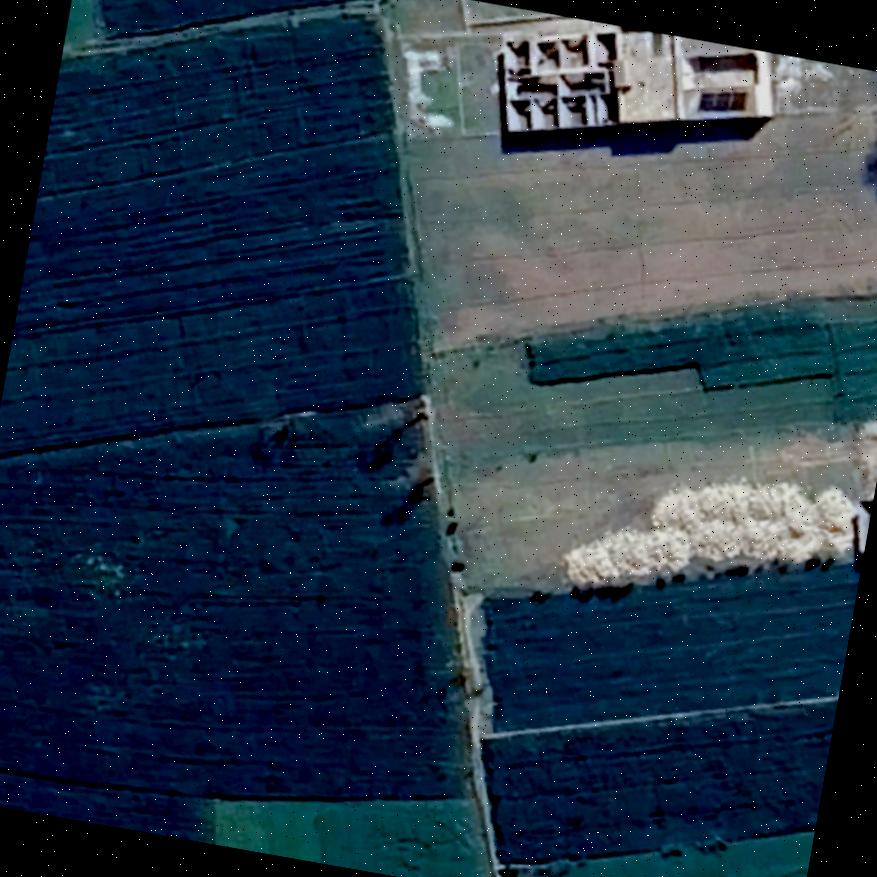Solarpanel: (692, 78, 752, 122)
